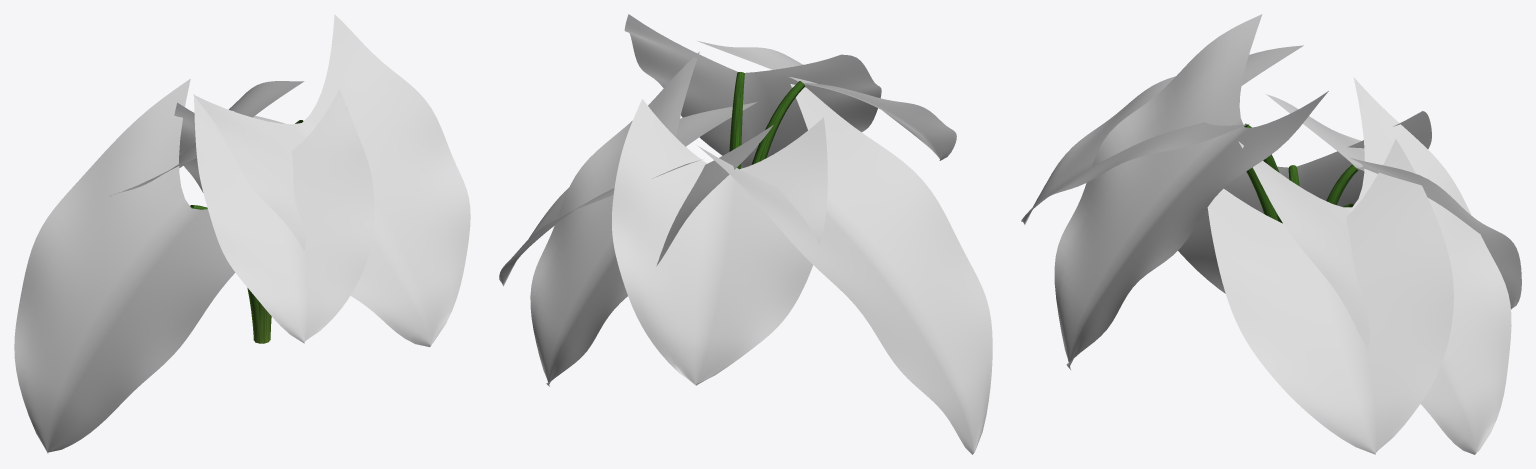
The model's file is Riesenblatt_1.fbx.
The picture shows the model from 3 angles, left to right: view 1: azimuth 30°, elevation 25°; view 2: azimuth 150°, elevation 25°; view 3: azimuth 270°, elevation 25°; orthographic projection. The views are drawn at different scales.
Parts seen in each view (by area): view 1: Riesenblatt_1; view 2: Riesenblatt_1; view 3: Riesenblatt_1.
Boxes of the visible parts, x1=… form: Riesenblatt_1: x1=14, y1=14, x2=470, y2=453; Riesenblatt_1: x1=499, y1=14, x2=992, y2=454; Riesenblatt_1: x1=1021, y1=14, x2=1521, y2=454.
Bounding box in the file's own units: 1.91 × 1.58 × 1.74.
